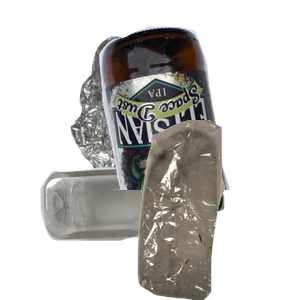glass: (97, 24, 300, 204)
metal: (68, 34, 300, 214)
plastic: (38, 165, 255, 300)
trash: (114, 120, 300, 300)
